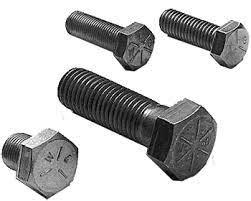screw: (146, 97, 217, 182), (16, 128, 78, 198), (115, 21, 155, 70), (210, 20, 249, 68)
